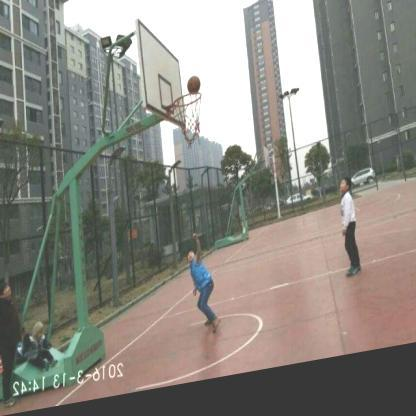basketball: (185, 80, 202, 105)
rim: (172, 99, 204, 153)
